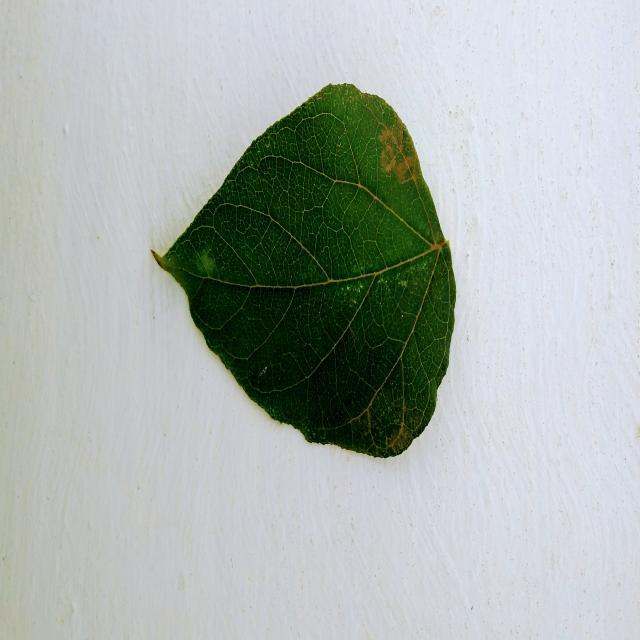leaf: (150, 81, 457, 459)
